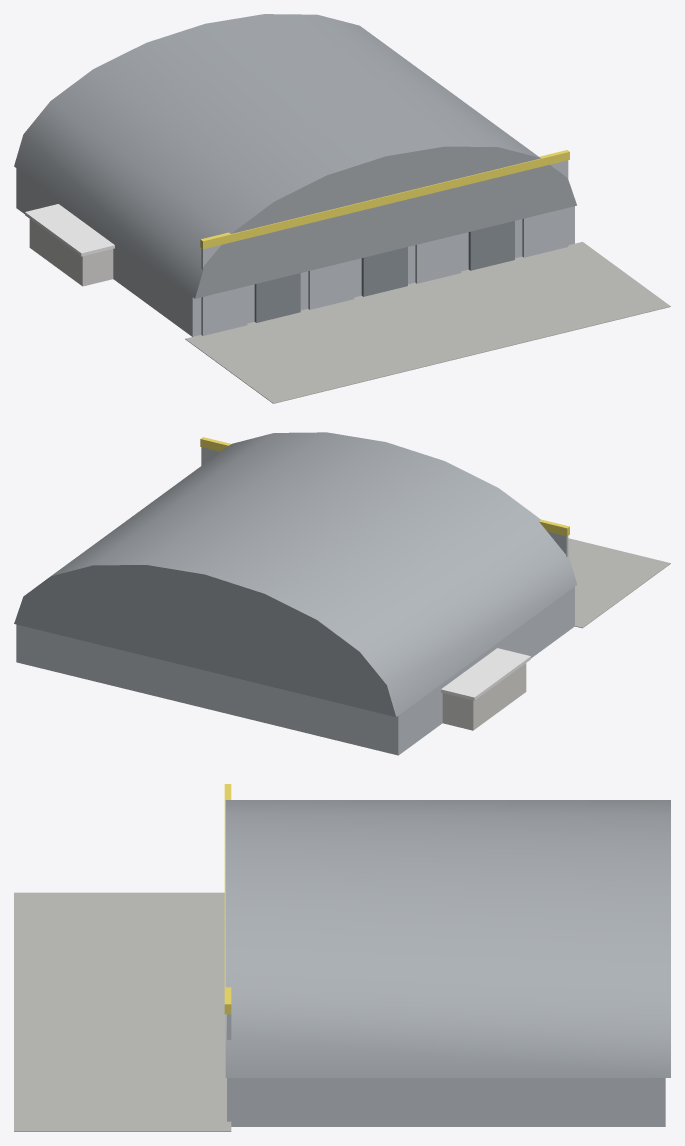
File: hangar.glb
3 renders of one model, top to bottom at view 1: azimuth 30°, elevation 25°; view 2: azimuth 150°, elevation 25°; view 3: azimuth 270°, elevation 25°, orthographic. The views are drawn at different scales.
Visible parts, largest first — view 1: body; view 2: body; view 3: body.
Part boxes in pixels (x1,y1,x2,y2): body: [14, 14, 670, 403]; body: [14, 432, 670, 755]; body: [14, 784, 670, 1131].
Bounding box in the file's own units: 55.4 × 17.02 × 60.5.
